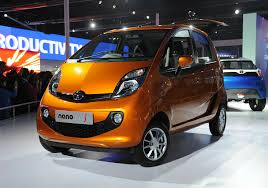Nano: (36, 20, 227, 165)
